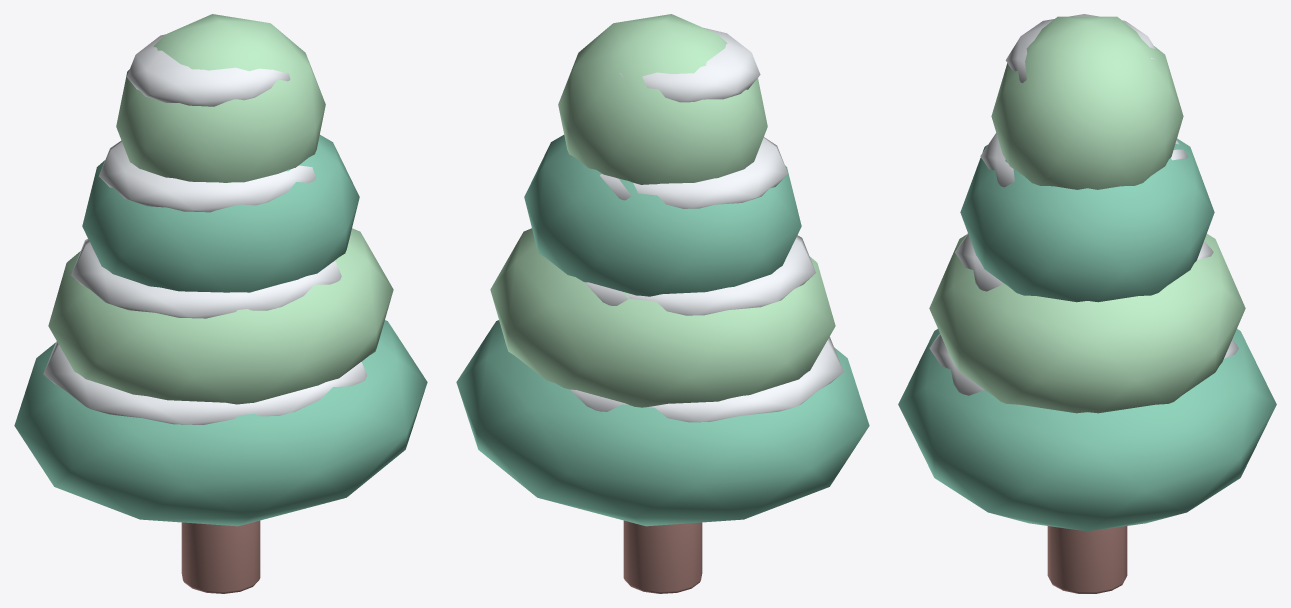
Rendered from winter_tree_2.glb.
3 views of the same model, side by side, from view 1: azimuth 30°, elevation 25°; view 2: azimuth 150°, elevation 25°; view 3: azimuth 270°, elevation 25° (orthographic).
Visible parts, largest first — view 1: NeedleCrown_0.002, NeedleCrown_1.002, NeedleCrown_2.002, NeedleCrown_3.002, SnowCap_0.003, SnowCap_1.003, SnowCap_2.003, SnowCap_3.003, Trunk.002; view 2: NeedleCrown_0.002, NeedleCrown_1.002, NeedleCrown_2.002, NeedleCrown_3.002, Trunk.002, SnowCap_1.003, SnowCap_0.003, SnowCap_2.003, SnowCap_3.003; view 3: NeedleCrown_0.002, NeedleCrown_1.002, NeedleCrown_2.002, NeedleCrown_3.002, Trunk.002, SnowCap_1.003, SnowCap_3.003, SnowCap_0.003, SnowCap_2.003.
Boxes of the visible parts, left/top/right/bottom form: NeedleCrown_0.002: left=14, top=320, right=427, bottom=526; NeedleCrown_1.002: left=48, top=228, right=393, bottom=404; NeedleCrown_2.002: left=82, top=135, right=359, bottom=292; NeedleCrown_3.002: left=116, top=14, right=325, bottom=182; SnowCap_0.003: left=43, top=341, right=367, bottom=424; SnowCap_1.003: left=71, top=238, right=341, bottom=318; SnowCap_2.003: left=99, top=140, right=315, bottom=212; SnowCap_3.003: left=127, top=34, right=290, bottom=106; Trunk.002: left=181, top=520, right=260, bottom=593; NeedleCrown_0.002: left=456, top=320, right=869, bottom=526; NeedleCrown_1.002: left=490, top=228, right=835, bottom=407; NeedleCrown_2.002: left=524, top=135, right=801, bottom=296; NeedleCrown_3.002: left=558, top=14, right=767, bottom=184; Trunk.002: left=623, top=520, right=702, bottom=593; SnowCap_1.003: left=584, top=235, right=815, bottom=315; SnowCap_0.003: left=570, top=337, right=843, bottom=422; SnowCap_2.003: left=600, top=137, right=788, bottom=208; SnowCap_3.003: left=620, top=28, right=760, bottom=102; NeedleCrown_0.002: left=898, top=329, right=1276, bottom=531; NeedleCrown_1.002: left=929, top=234, right=1245, bottom=413; NeedleCrown_2.002: left=960, top=138, right=1214, bottom=302; NeedleCrown_3.002: left=991, top=16, right=1183, bottom=189; Trunk.002: left=1047, top=526, right=1127, bottom=593; SnowCap_1.003: left=955, top=233, right=1213, bottom=291; SnowCap_3.003: left=1005, top=14, right=1155, bottom=82; SnowCap_0.003: left=929, top=334, right=1238, bottom=395; SnowCap_2.003: left=980, top=133, right=1188, bottom=187.
Size of the model in its own units: 6.37 by 9.57 by 5.9.
